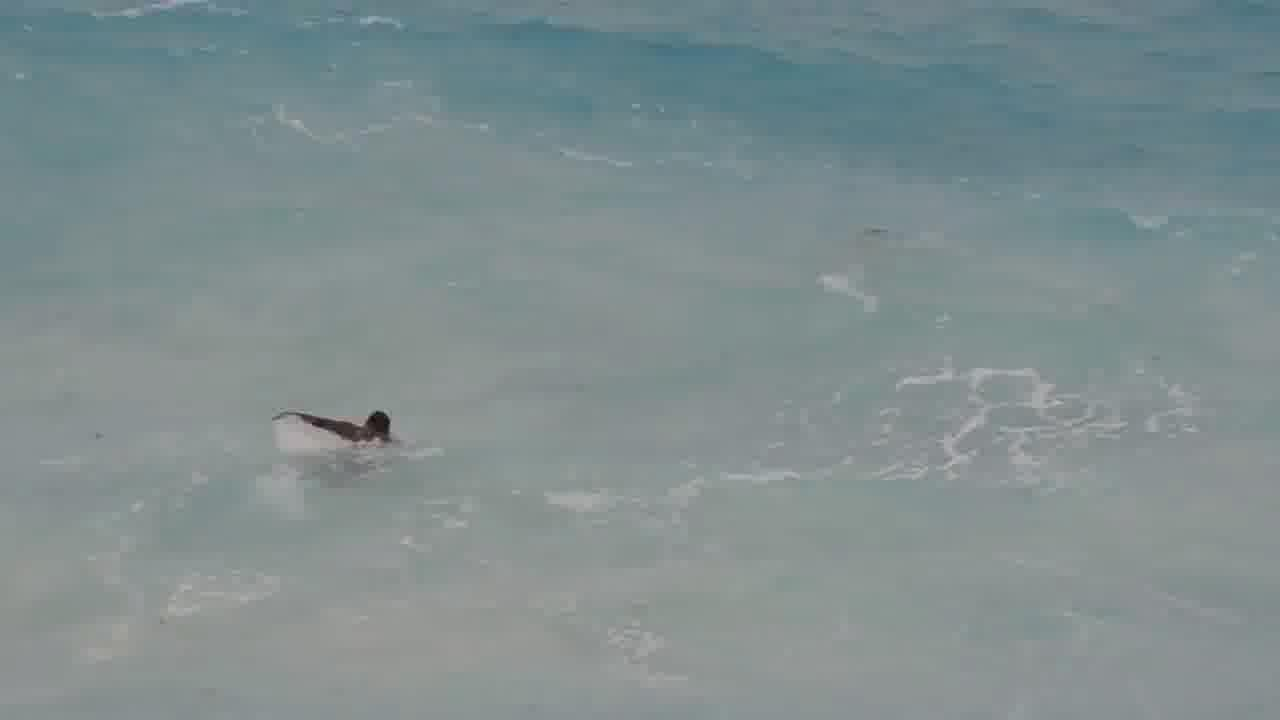swimmer: (277, 398, 412, 467)
